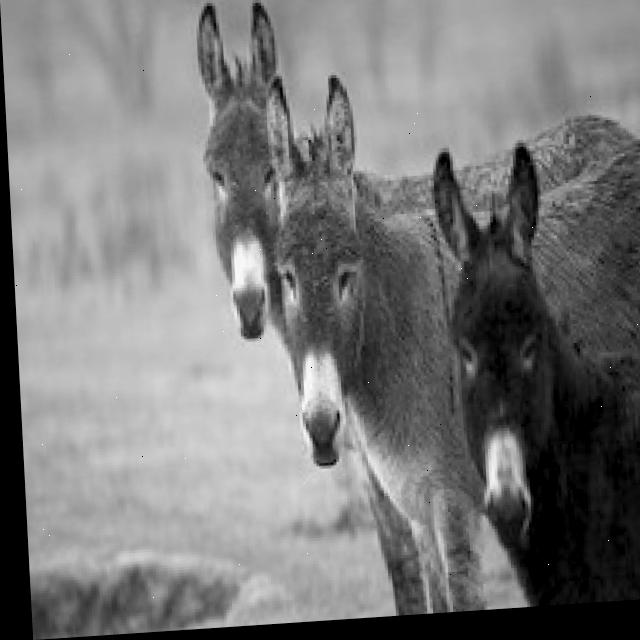Donkey: (259, 49, 640, 620), (192, 0, 428, 624), (426, 126, 640, 609)
